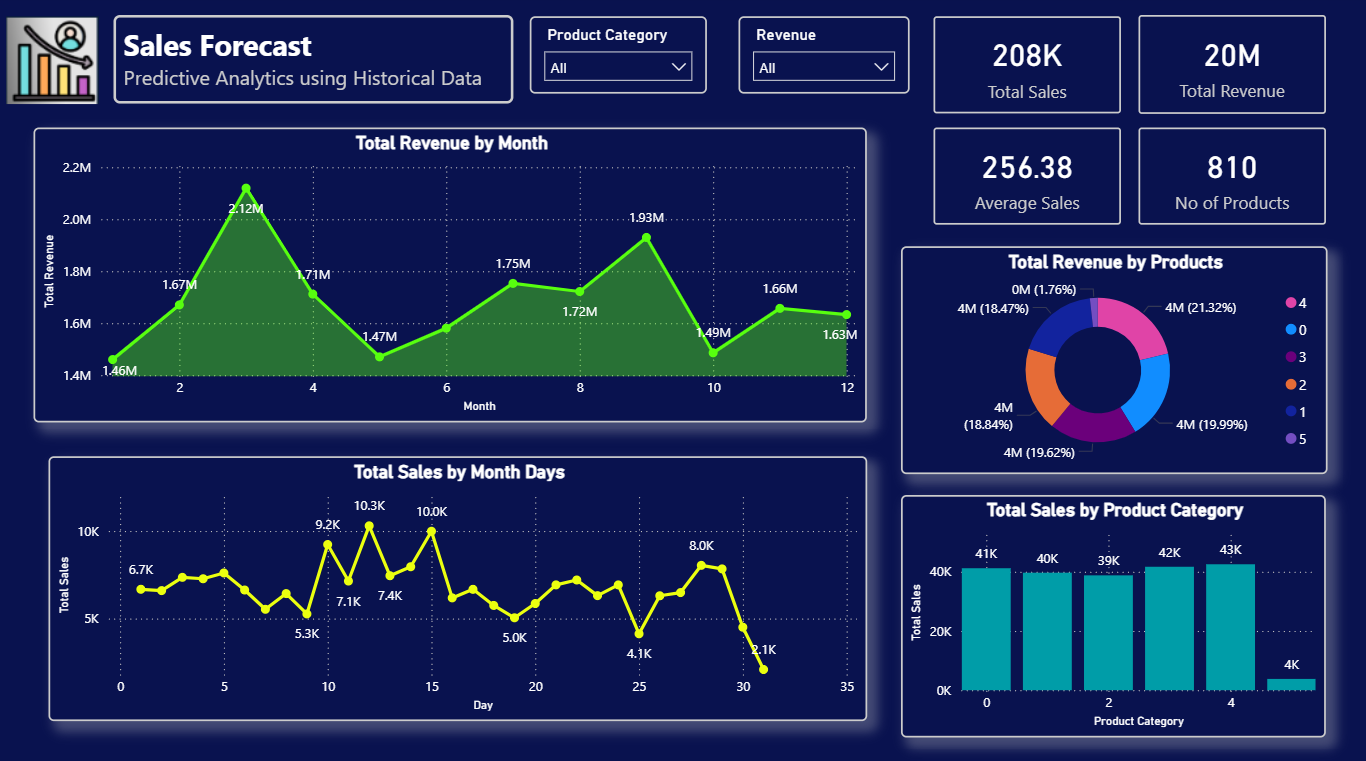

What the dashboard file says about the page in this screenshot:
{"tool":"powerbi","page":{"name":"Page 1","canvas":[1280,720],"ordinal":0},"visuals":[{"type":"card","fields":{"Values":["Sum(cleaned_sales_data.Sales)"]},"box":[872.1,19.8,174.4,90.7],"z":0},{"type":"card","fields":{"Values":["Sum(cleaned_sales_data.Revenue)"]},"box":[1062.8,18.6,174.4,91.9],"z":1},{"type":"card","fields":{"Values":["Avg(cleaned_sales_data.Sales)"]},"box":[872.1,123.3,174.4,90.7],"z":2},{"type":"card","fields":{"Values":["CountNonNull(cleaned_sales_data.Product_ID)"]},"box":[1062.8,123.3,174.4,90.7],"z":3},{"type":"lineChart","title":"Total Sales by Month Days","fields":{"Category":["cleaned_sales_data.Date.Variation.Date Hierarchy.Day"],"Y":["Sum(cleaned_sales_data.Sales)"]},"box":[48.8,429.1,761.6,246.5],"z":4},{"type":"clusteredColumnChart","fields":{"Category":["cleaned_sales_data.Product_Category"],"Y":["Sum(cleaned_sales_data.Sales)"]},"box":[841.9,465.1,395.3,225.6],"z":5},{"type":"areaChart","fields":{"Category":["cleaned_sales_data.Month"],"Y":["Sum(cleaned_sales_data.Revenue)"]},"box":[34.9,123.3,775.6,274.4],"z":7},{"type":"donutChart","title":"Total Revenue by Products","fields":{"Category":["cleaned_sales_data.Product_Category"],"Y":["Sum(cleaned_sales_data.Revenue)"]},"box":[841.9,233.7,396.5,211.6],"z":8},{"type":"slicer","fields":{"Values":["cleaned_sales_data.Product_Category"]},"box":[496.5,19.8,165.1,72.1],"z":9},{"type":"slicer","fields":{"Values":["cleaned_sales_data.Revenue"]},"box":[690.7,19.8,159.3,72.1],"z":10},{"type":"textbox","box":[109.3,18.6,372.1,82.6],"z":11},{"type":"image","box":[9.3,17.4,86,86],"z":12}]}

Visuals, with their boxes in screenshot pixels (x1, y1, x2, y2), scaled from the page's 1280x720 canvas onto the 1366x761 screenshot:
card - Sum(cleaned_sales_data.Sales): <bbox>931, 21, 1117, 117</bbox>
card - Sum(cleaned_sales_data.Revenue): <bbox>1134, 20, 1320, 117</bbox>
card - Avg(cleaned_sales_data.Sales): <bbox>931, 130, 1117, 226</bbox>
card - CountNonNull(cleaned_sales_data.Product_ID): <bbox>1134, 130, 1320, 226</bbox>
"Total Sales by Month Days" lineChart: <bbox>52, 454, 865, 714</bbox>
clusteredColumnChart - cleaned_sales_data.Product_Category x Sum(cleaned_sales_data.Sales): <bbox>898, 492, 1320, 730</bbox>
areaChart - cleaned_sales_data.Month x Sum(cleaned_sales_data.Revenue): <bbox>37, 130, 865, 420</bbox>
"Total Revenue by Products" donutChart: <bbox>898, 247, 1322, 471</bbox>
slicer - cleaned_sales_data.Product_Category: <bbox>530, 21, 706, 97</bbox>
slicer - cleaned_sales_data.Revenue: <bbox>737, 21, 907, 97</bbox>
textbox: <bbox>117, 20, 514, 107</bbox>
image: <bbox>10, 18, 102, 109</bbox>
